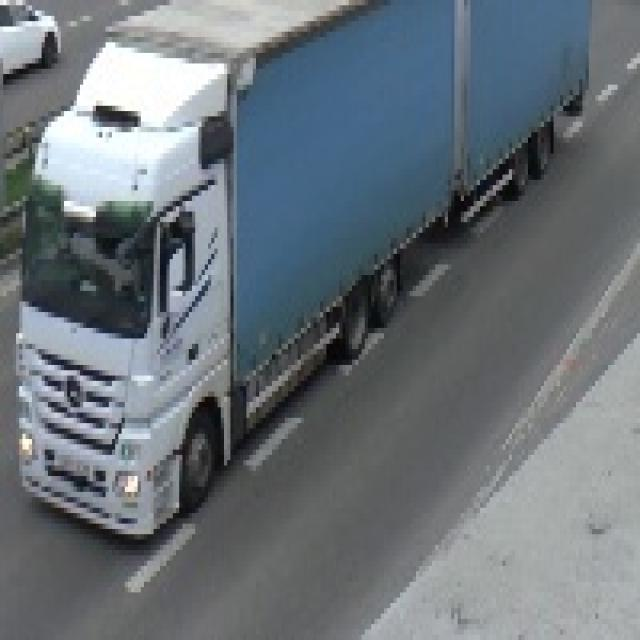TRUCK: (13, 0, 592, 540)
